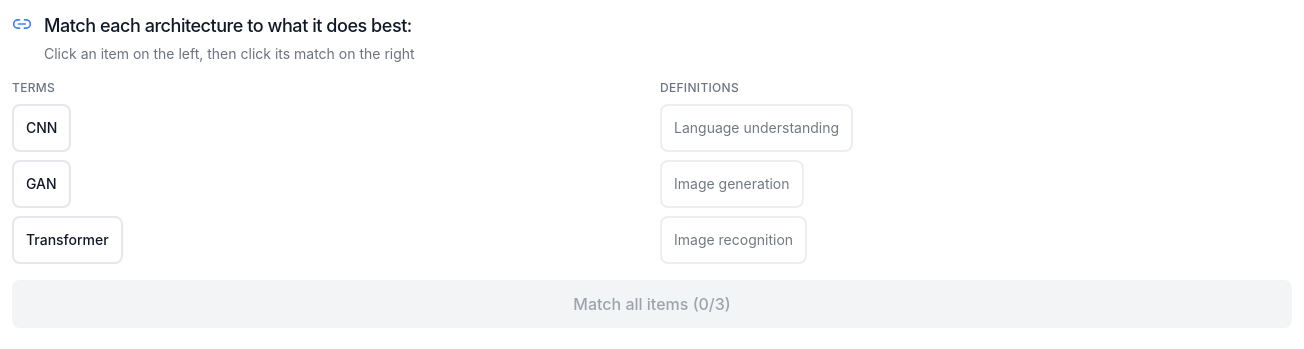
Scenario: MatchingQuestion › allows removing a match before submission
The width and height of the screenshot is (1304, 349).
# Create a match
Step 1. Click the button with test id "left-p1" → (42, 128), box [12,104,72,152]
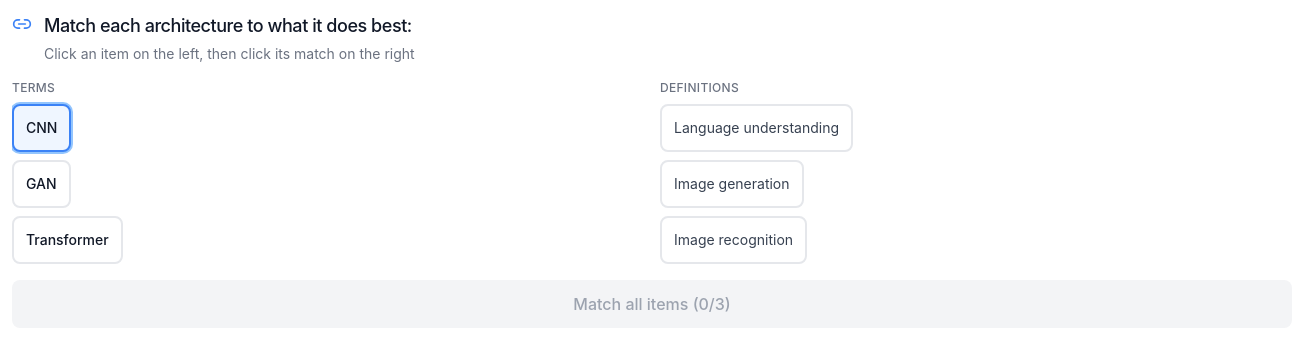
Step 2. Click the button with test id "right-p1" → (734, 240), box [660,216,807,264]
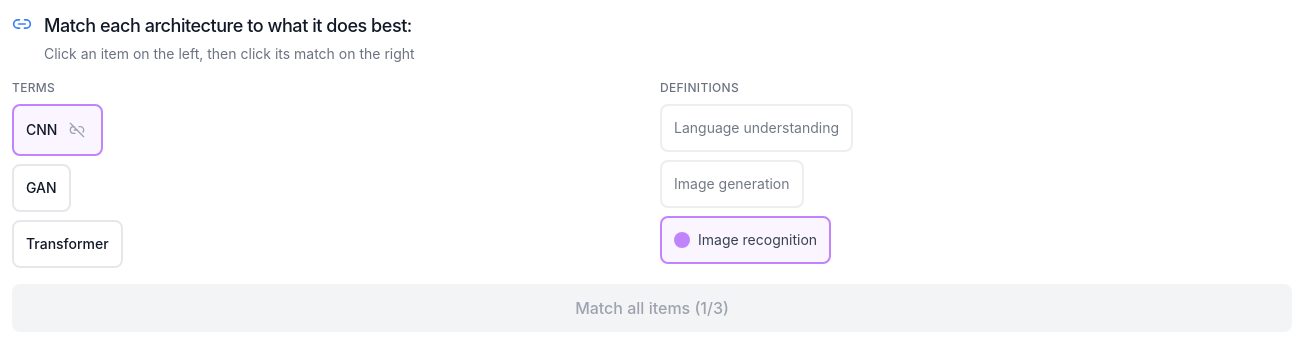
Now the button with test id "remove-match-p1" is shown
# Remove the match
Step 3. Click the button with test id "remove-match-p1" → (78, 130), box [70,122,86,138]
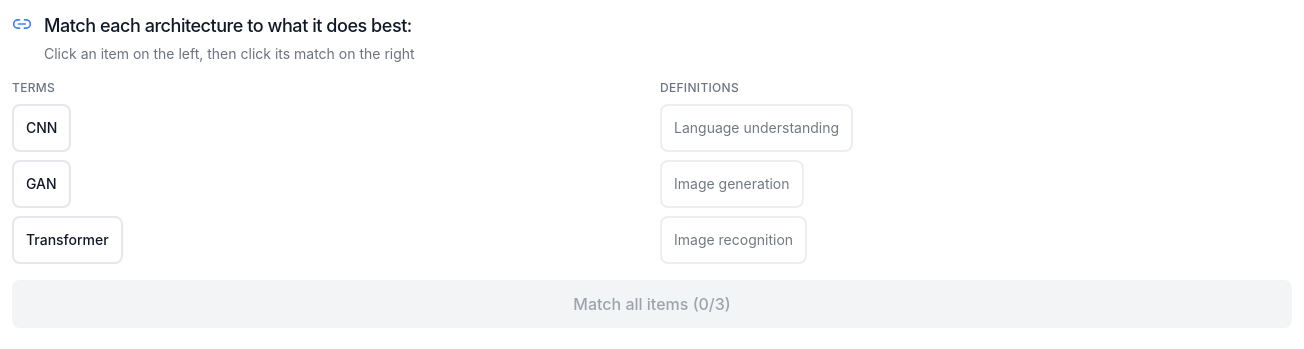
Now the button with test id "remove-match-p1" is gone
